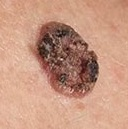Squamous Carcinoma: (34, 18, 106, 105)
